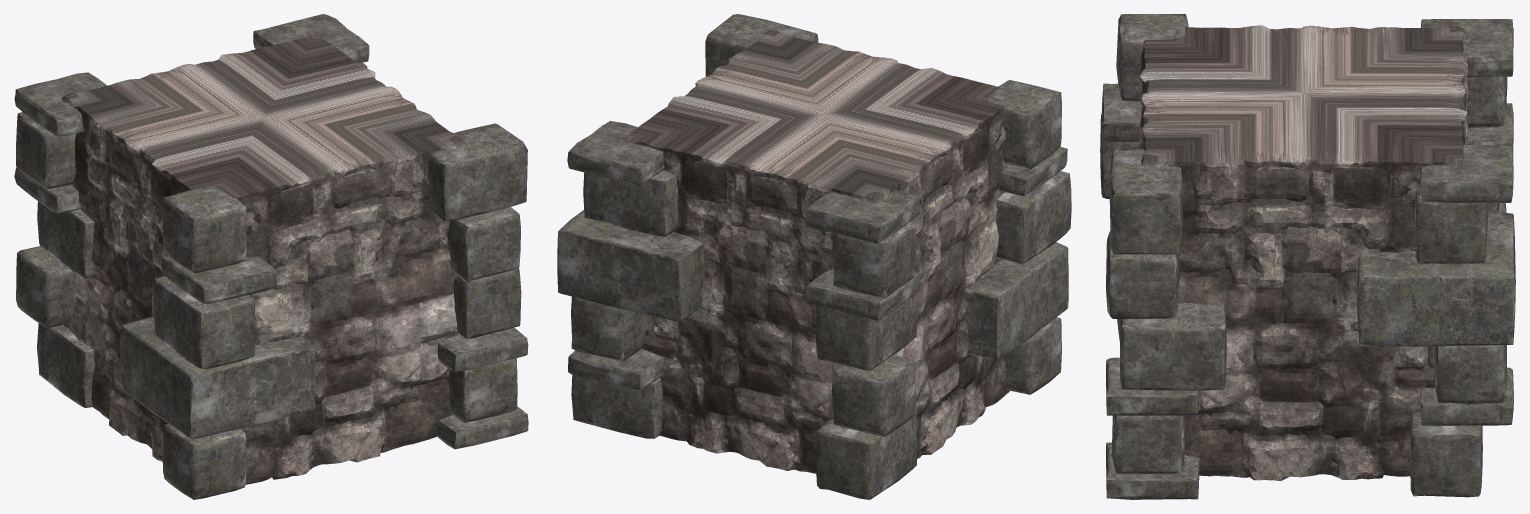
Rendered from SM_Chimney_Segment.fbx.
The picture shows the model from 3 angles, left to right: view 1: azimuth 30°, elevation 25°; view 2: azimuth 150°, elevation 25°; view 3: azimuth 270°, elevation 25°; orthographic projection. The views are drawn at different scales.
Parts seen in each view (by area): view 1: SM_Chimney_Segment_LOD0; view 2: SM_Chimney_Segment_LOD0; view 3: SM_Chimney_Segment_LOD0.
Part boxes in pixels (x1,y1,x2,y2): SM_Chimney_Segment_LOD0: (14, 14, 528, 499); SM_Chimney_Segment_LOD0: (557, 14, 1071, 499); SM_Chimney_Segment_LOD0: (1100, 14, 1515, 499).
Bounding box in the file's own units: 118 × 117 × 99.09.
